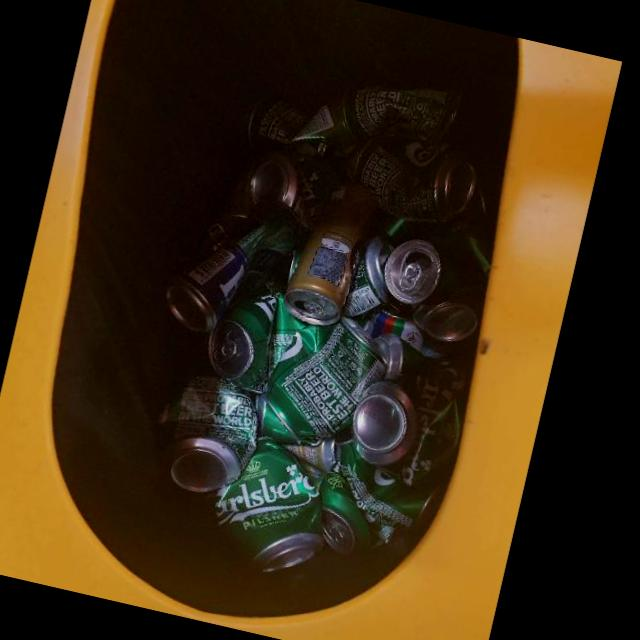nhom: (161, 201, 297, 329), (265, 318, 387, 438), (213, 437, 322, 570), (283, 179, 380, 326), (154, 366, 258, 490), (351, 371, 461, 484), (335, 427, 452, 532), (354, 135, 475, 222), (207, 292, 304, 394), (318, 459, 396, 556), (385, 240, 485, 313), (248, 92, 359, 152), (344, 86, 462, 142), (244, 150, 312, 233), (374, 333, 468, 393), (340, 233, 394, 318), (206, 159, 251, 254), (355, 296, 426, 351), (282, 426, 348, 472), (410, 302, 477, 340)
